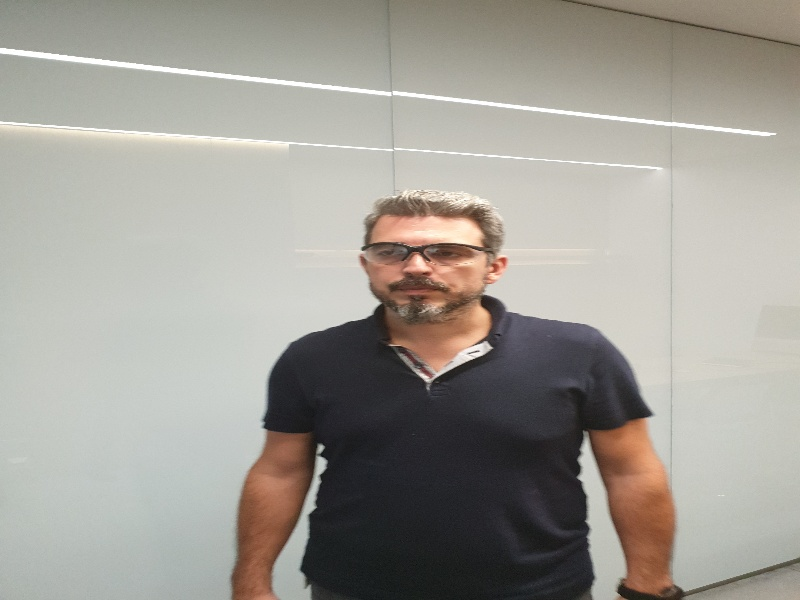Gozluk: (360, 242, 501, 267)
